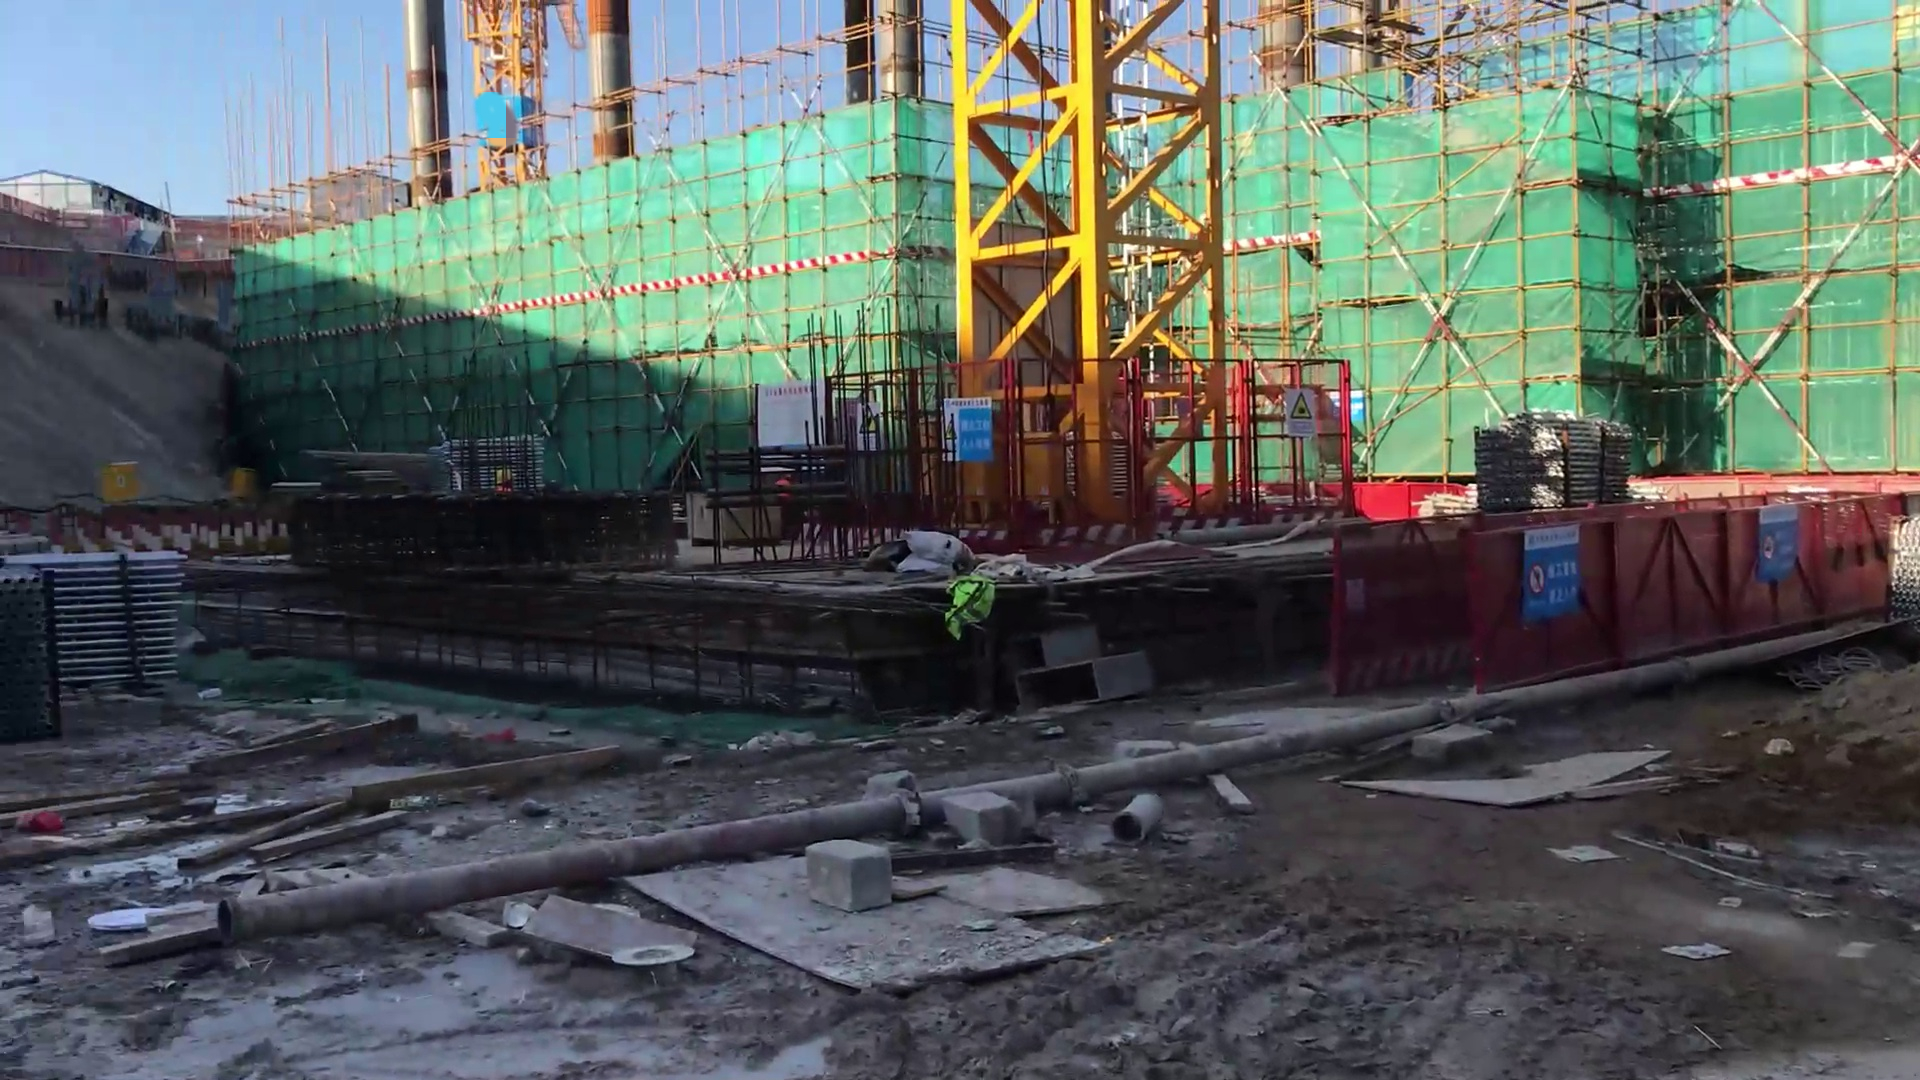fence: (1614, 512, 1886, 651)
scaffold: (29, 550, 177, 702), (1458, 411, 1634, 512)
slogan: (1526, 559, 1589, 622), (940, 411, 998, 462), (1758, 526, 1805, 576), (1282, 392, 1313, 440)
